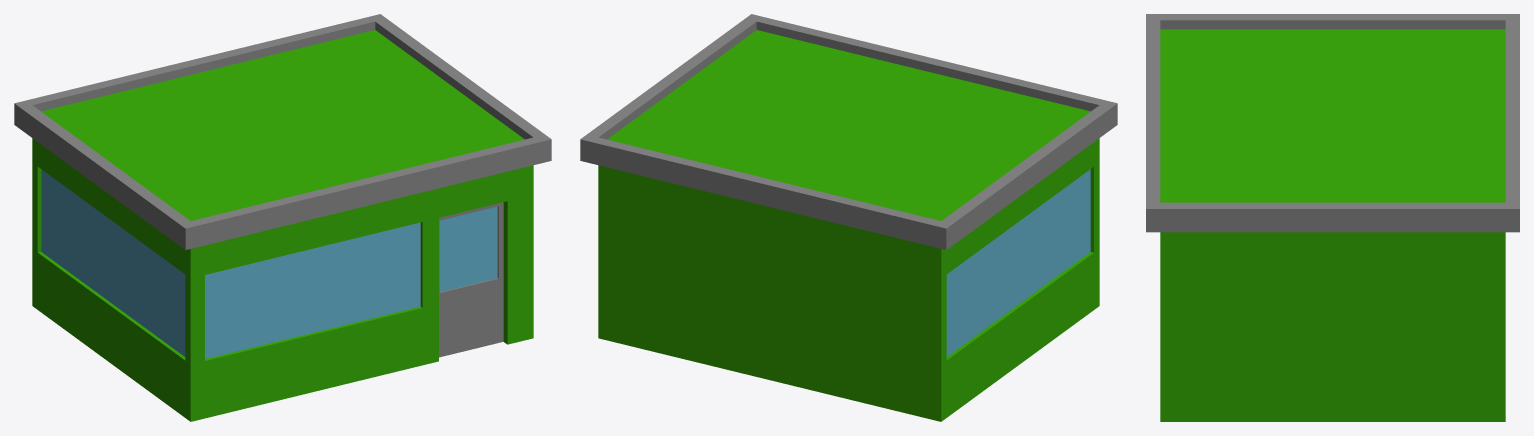
The model's file is building_3.fbx.
The picture shows the model from 3 angles, left to right: view 1: azimuth 30°, elevation 25°; view 2: azimuth 150°, elevation 25°; view 3: azimuth 270°, elevation 25°; orthographic projection. The views are drawn at different scales.
Parts seen in each view (by area): view 1: building_3; view 2: building_3; view 3: building_3.
Boxes of the visible parts, bbox=[...] form: building_3: bbox=[14, 14, 551, 421]; building_3: bbox=[580, 14, 1117, 421]; building_3: bbox=[1146, 14, 1519, 421].
Bounding box in the file's own units: 534 × 280 × 433.
